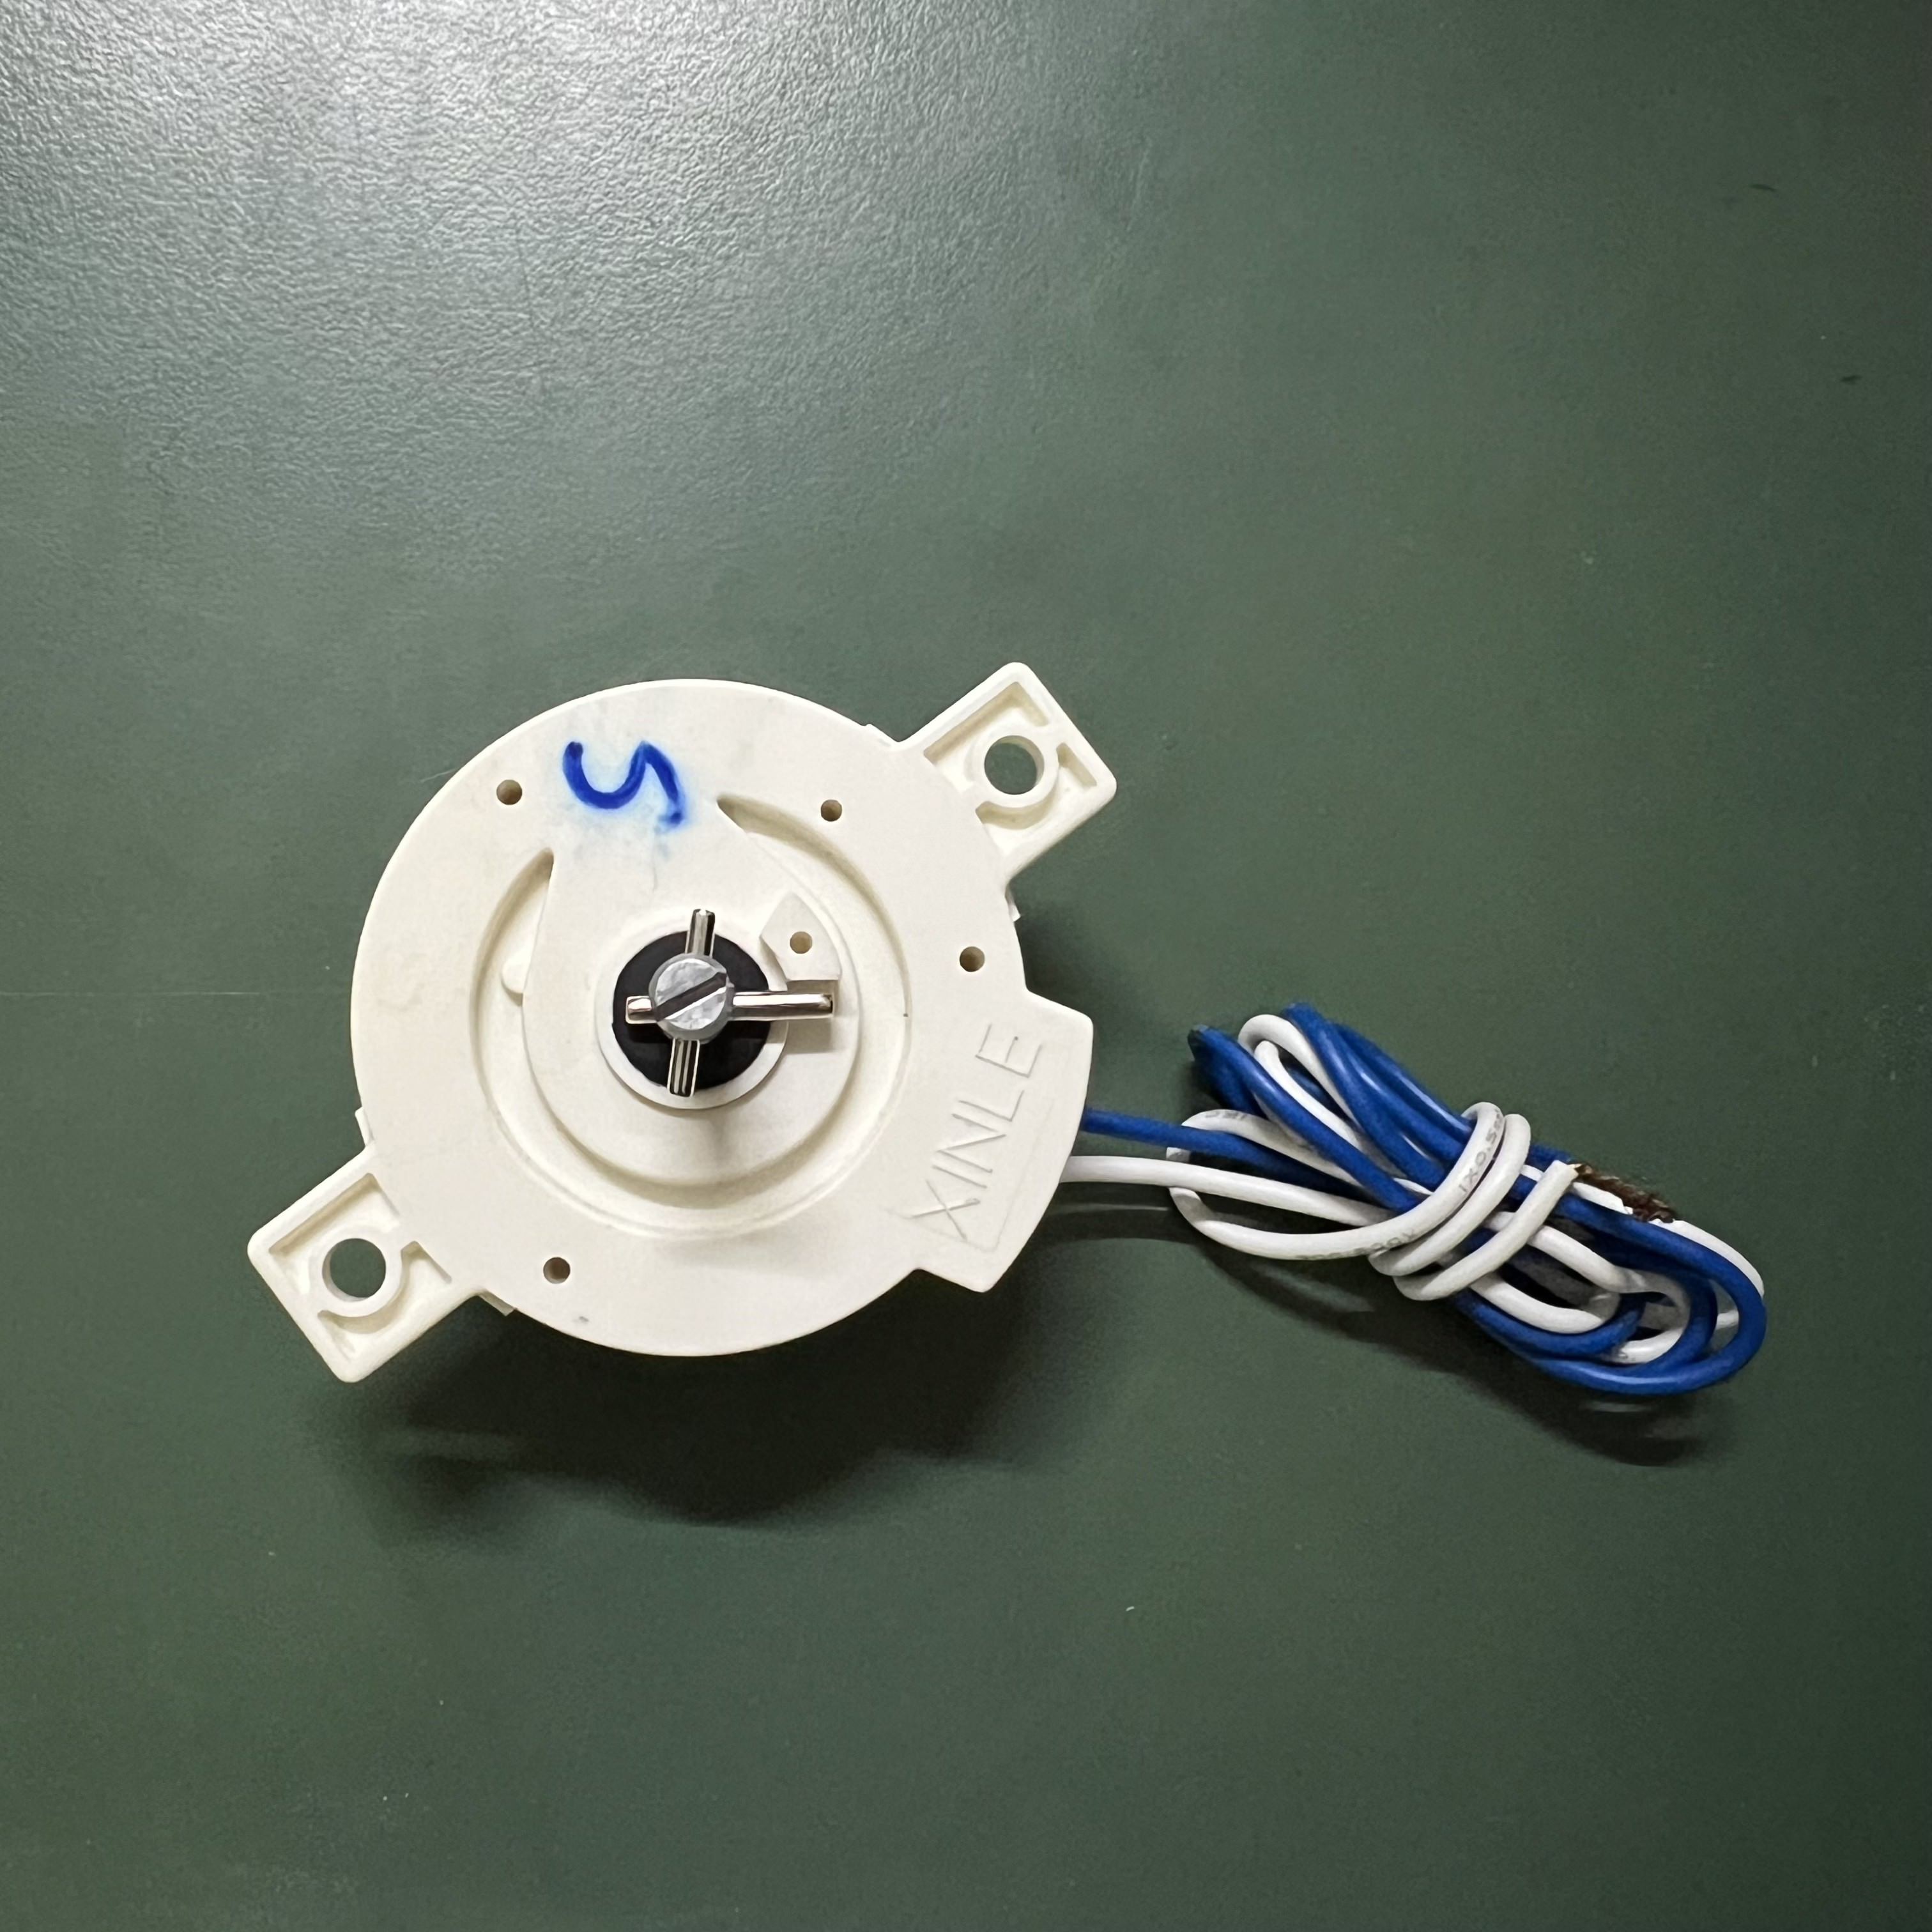circle_timer: (234, 665, 1801, 1454)
